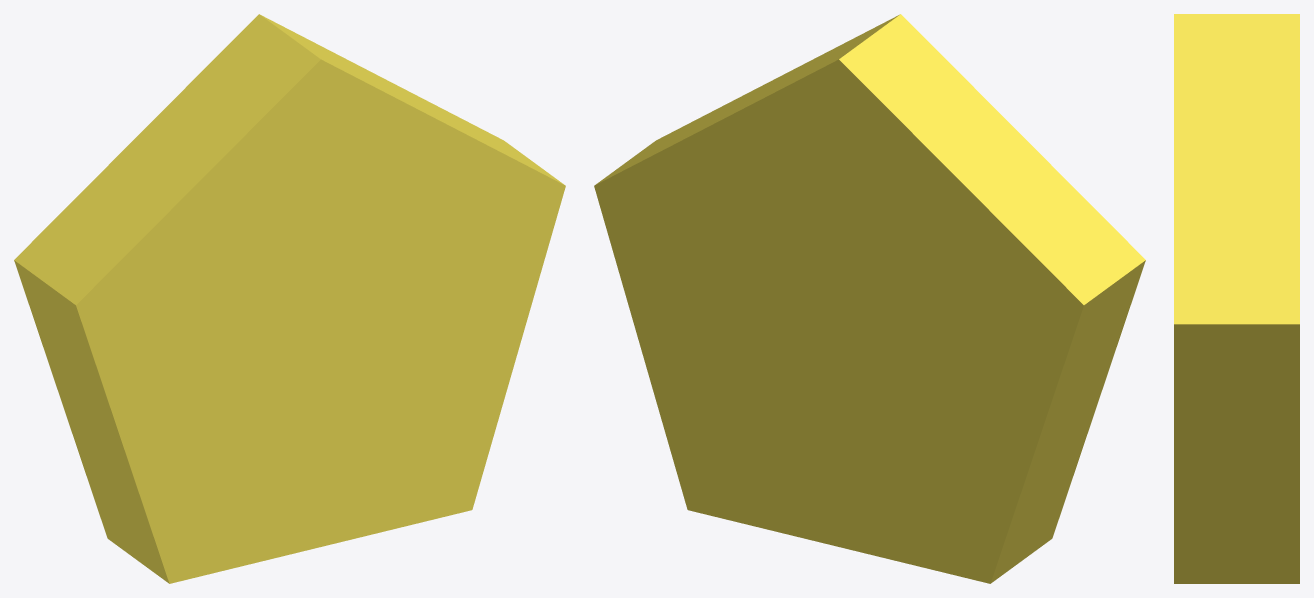
File: star_item.glb
3 renders of one model, left to right at view 1: azimuth 30°, elevation 25°; view 2: azimuth 150°, elevation 25°; view 3: azimuth 270°, elevation 25°, orthographic.
Visible parts, largest first — view 1: Cylinder; view 2: Cylinder; view 3: Cylinder.
Boxes of the visible parts, x1=… form: Cylinder: x1=14, y1=14, x2=565, y2=583; Cylinder: x1=594, y1=14, x2=1145, y2=583; Cylinder: x1=1174, y1=14, x2=1299, y2=583.
Size of the model in its own units: 1.14 by 1.09 by 0.25.
